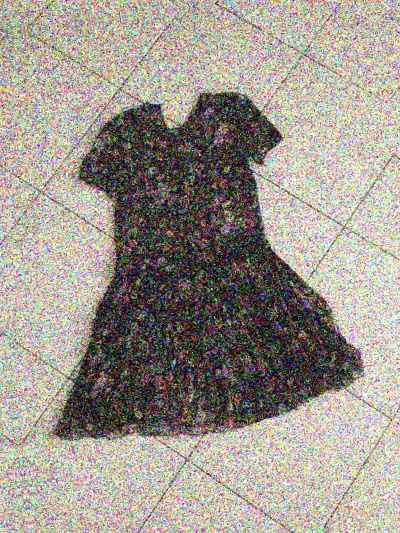Dress: (4, 45, 379, 467)
